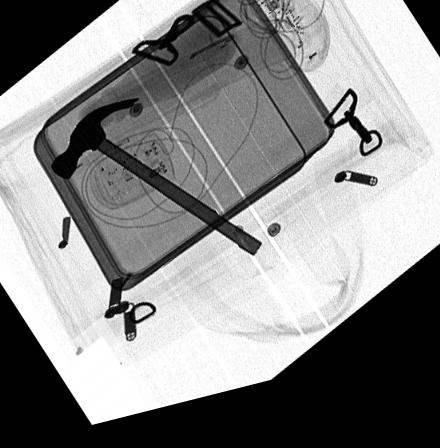Hammer: (49, 103, 264, 269)
